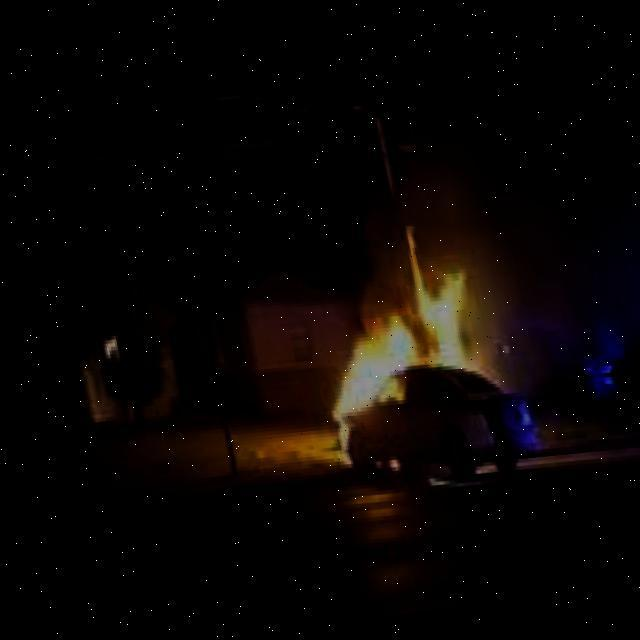Fire: (286, 270, 487, 488)
